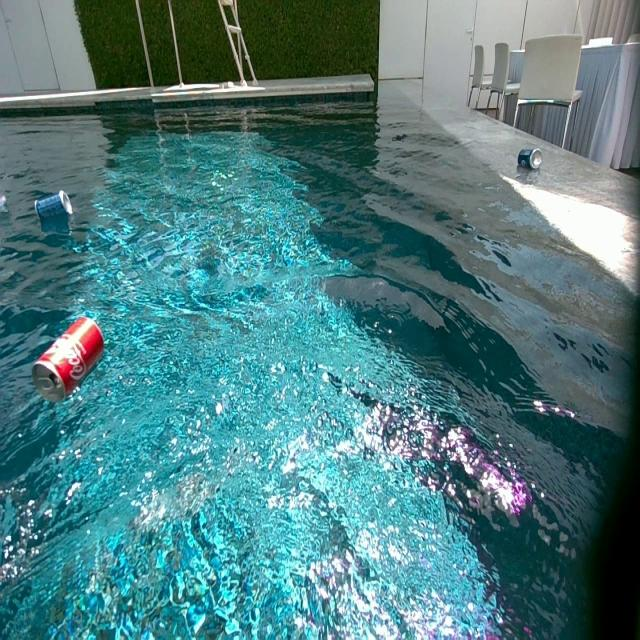Cans: (33, 316, 106, 404), (34, 191, 71, 225), (518, 147, 542, 170)
